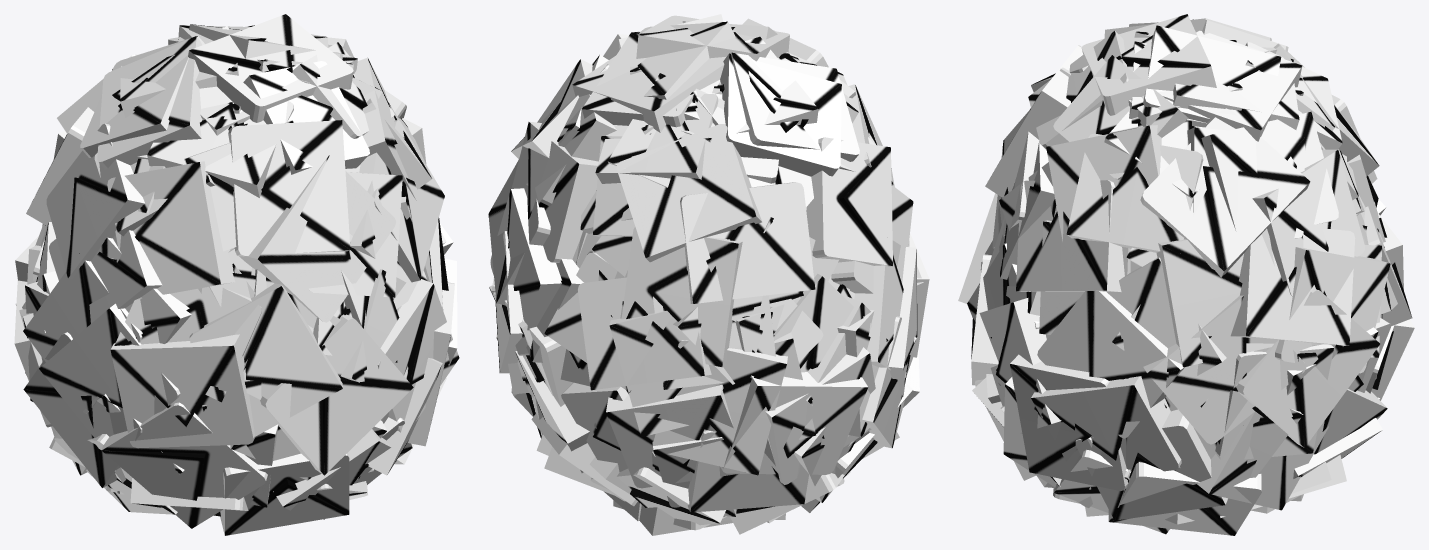
The model's file is pile.glb.
3 renders of one model, left to right at view 1: azimuth 30°, elevation 25°; view 2: azimuth 150°, elevation 25°; view 3: azimuth 270°, elevation 25°, orthographic. The views are drawn at different scales.
Visible parts, largest first — view 1: Cube.146, Cube.122, Cube.117, Cube.152, Cube.131, Cube.147, Cube.115, Cube.099, Cube.174, Cube.161, Cube.126, Cube.173 (+40 smaller); view 2: Cube.203, Cube.217, Cube.174, Cube.218, Cube.226, Cube.180, Cube.198, Cube.212, Cube.027, Cube.220, Cube.173, Cube.206 (+51 smaller); view 3: Cube.049, Cube.035, Cube.073, Cube.074, Cube.036, Cube.071, Cube.051, Cube.086, Cube.081, Cube.050, Cube.027, Cube.099 (+45 smaller).
Boxes of the visible parts, <box> form: Cube.146: <box>110,334,255,448</box>; Cube.122: <box>228,120,350,256</box>; Cube.117: <box>260,314,413,475</box>; Cube.152: <box>107,161,235,299</box>; Cube.131: <box>189,283,342,436</box>; Cube.147: <box>101,402,267,528</box>; Cube.115: <box>239,155,395,322</box>; Cube.099: <box>188,14,353,122</box>; Cube.174: <box>46,123,144,279</box>; Cube.161: <box>39,303,180,437</box>; Cube.126: <box>220,453,349,535</box>; Cube.173: <box>97,36,202,169</box>; Cube.203: <box>680,182,815,303</box>; Cube.217: <box>616,124,762,262</box>; Cube.174: <box>806,137,892,266</box>; Cube.218: <box>621,227,742,367</box>; Cube.226: <box>578,277,711,390</box>; Cube.180: <box>720,53,841,176</box>; Cube.198: <box>720,372,868,474</box>; Cube.212: <box>652,340,787,475</box>; Cube.027: <box>511,121,598,262</box>; Cube.220: <box>606,384,745,488</box>; Cube.173: <box>731,52,859,161</box>; Cube.206: <box>687,430,808,512</box>; Cube.049: <box>1140,108,1310,277</box>; Cube.035: <box>1230,228,1355,345</box>; Cube.073: <box>1037,291,1184,438</box>; Cube.074: <box>1031,376,1181,471</box>; Cube.036: <box>1236,289,1379,447</box>; Cube.071: <box>1066,133,1203,253</box>; Cube.051: <box>1143,295,1306,444</box>; Cube.086: <box>1016,180,1124,292</box>; Cube.081: <box>1010,354,1128,490</box>; Cube.050: <box>1156,228,1274,367</box>; Cube.027: <box>1252,149,1364,296</box>; Cube.099: <box>1081,14,1216,115</box>.
Size of the model in its own units: 1.6 by 1.81 by 1.58.
1 material, 1 textured.
